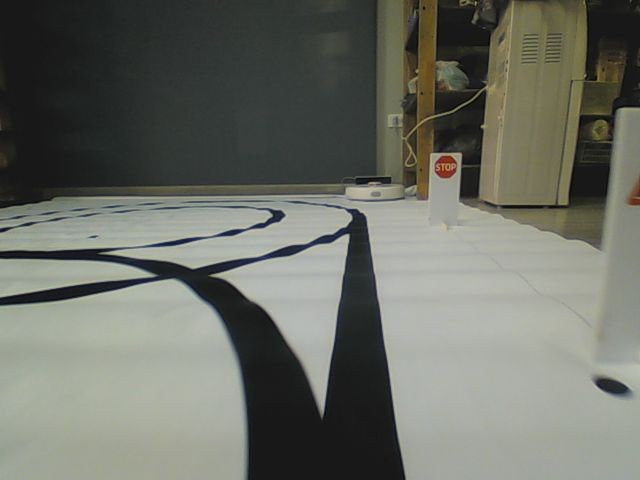Stop: (433, 156, 457, 176)
